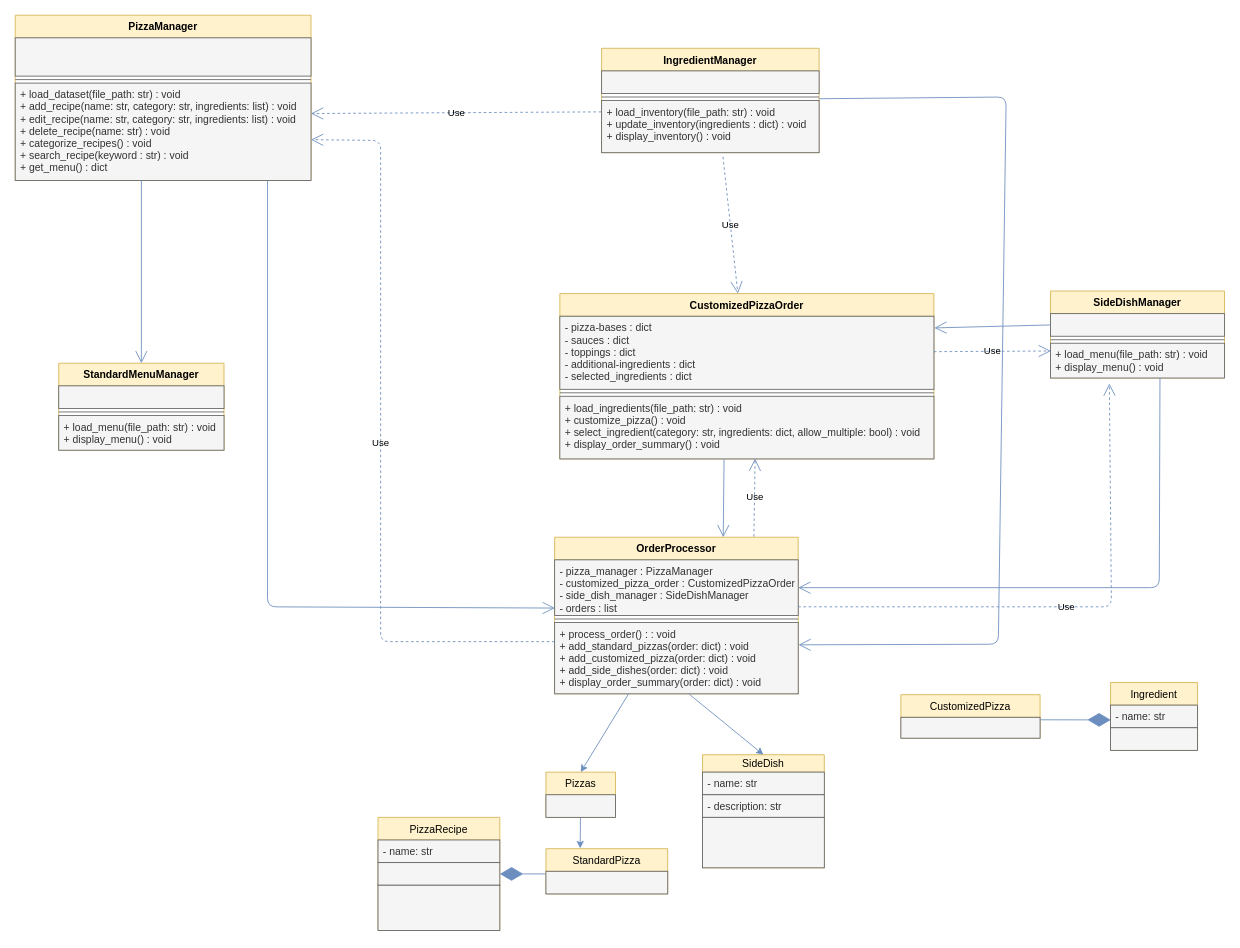
The diagram is 1240 pixels wide and 948 high, and some of its shapes have lost their labels. Each missing label, with the centre of its shape:
- category: str: [438,873]
- contains: List(Ingredient): [970,727]
- has: PizzaRecipe: [606,882]
- ingredients: list - price: float: [438,907]
- inventory : dict: [710,82]
- price: float: [1154,738]
- recipes: dict - ingredient_manager : IngredientManager: [162,56]
- side_dishes : dict: [1137,324]
- standard_menu : dict: [141,396]
- type : str: [580,805]
- type: str - price: float: [763,842]
